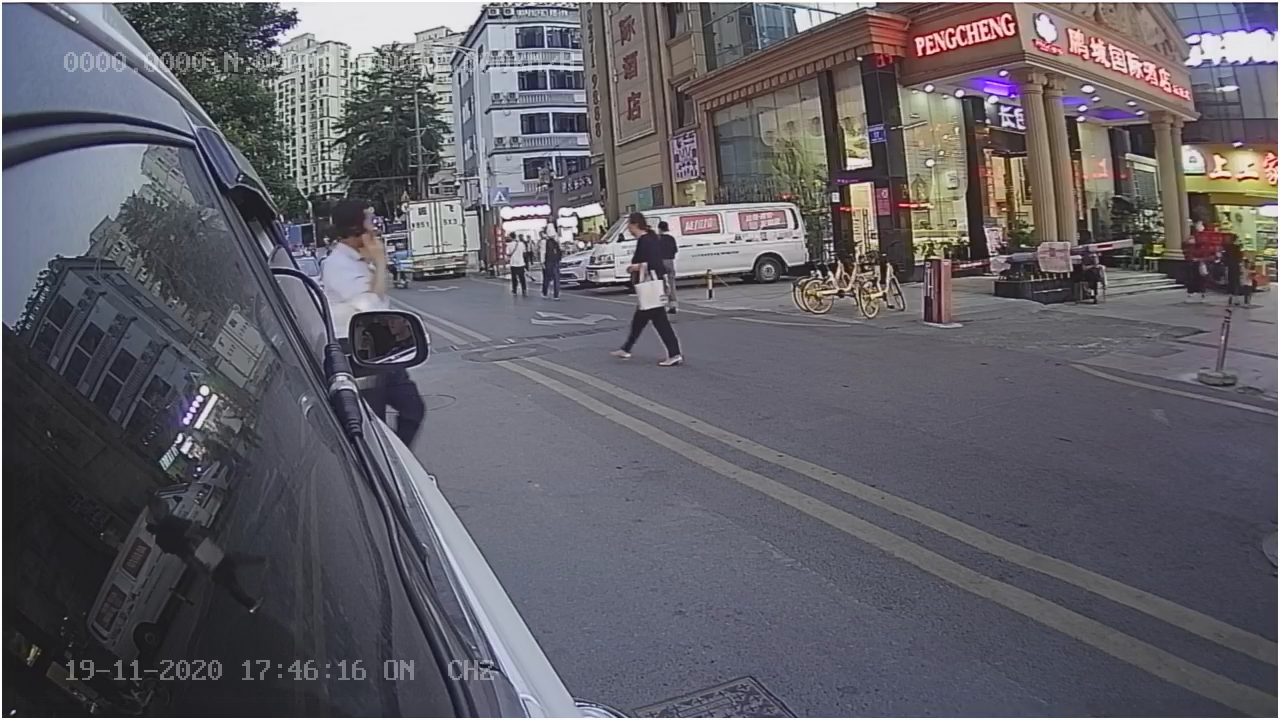person: (614, 214, 690, 374)
